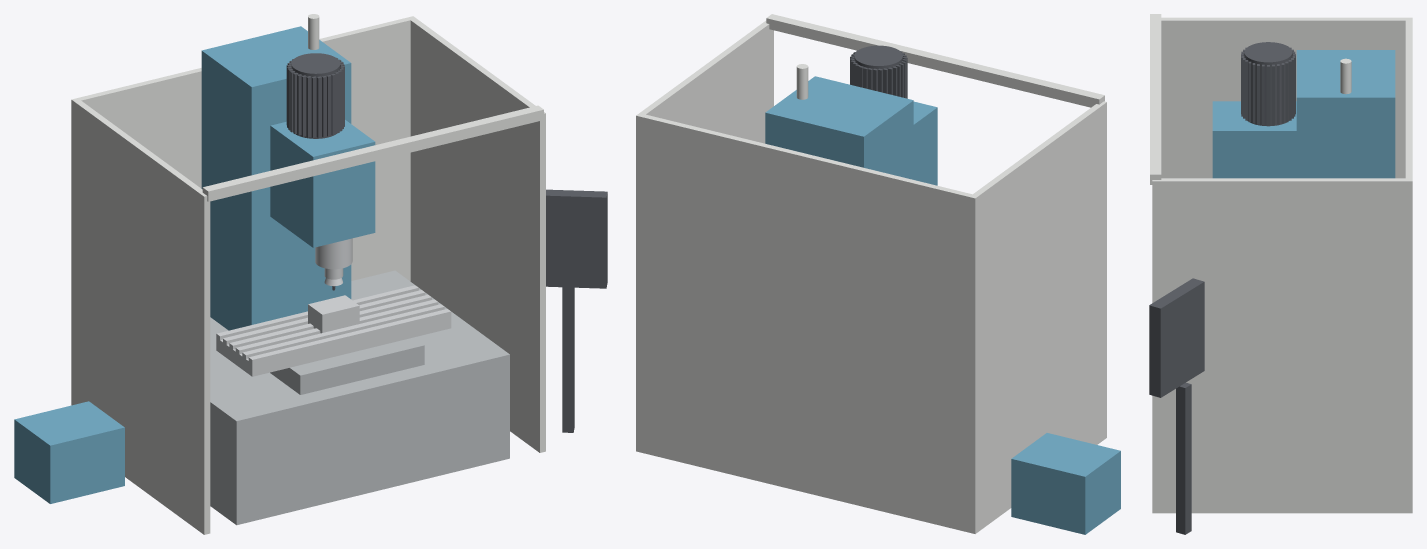
File: cnc-machine.glb
3 renders of one model, left to right at view 1: azimuth 30°, elevation 25°; view 2: azimuth 150°, elevation 25°; view 3: azimuth 270°, elevation 25°, orthographic.
Parts seen in each view (by area): view 1: enclosure, base, column, table, head, coolant, panel, motor, saddle, workpiece, bearing; view 2: enclosure, column, coolant, motor, head; view 3: enclosure, column, panel, head, motor, lamp.
Boxes of the visible parts, bbox=[...] form: enclosure: bbox=[71, 16, 545, 534]; base: bbox=[210, 270, 509, 525]; column: bbox=[201, 26, 351, 330]; table: bbox=[216, 285, 451, 376]; head: bbox=[270, 120, 375, 247]; coolant: bbox=[14, 401, 124, 503]; panel: bbox=[546, 189, 607, 432]; motor: bbox=[286, 53, 344, 138]; saddle: bbox=[270, 337, 424, 394]; workpiece: bbox=[308, 295, 359, 333]; bearing: bbox=[315, 238, 352, 269]; enclosure: bbox=[636, 14, 1106, 533]; column: bbox=[765, 76, 913, 179]; coolant: bbox=[1011, 433, 1120, 534]; motor: bbox=[850, 45, 907, 98]; head: bbox=[913, 101, 937, 185]; enclosure: bbox=[1150, 14, 1412, 513]; column: bbox=[1296, 50, 1395, 178]; panel: bbox=[1149, 278, 1204, 534]; head: bbox=[1212, 101, 1296, 178]; motor: bbox=[1241, 42, 1295, 126]; lamp: bbox=[1340, 58, 1351, 94].
Size of the model in its own units: 3.96 by 3.04 by 1.87.
